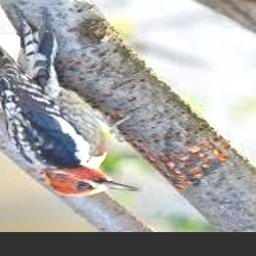Woodpecker: (0, 5, 141, 197)
